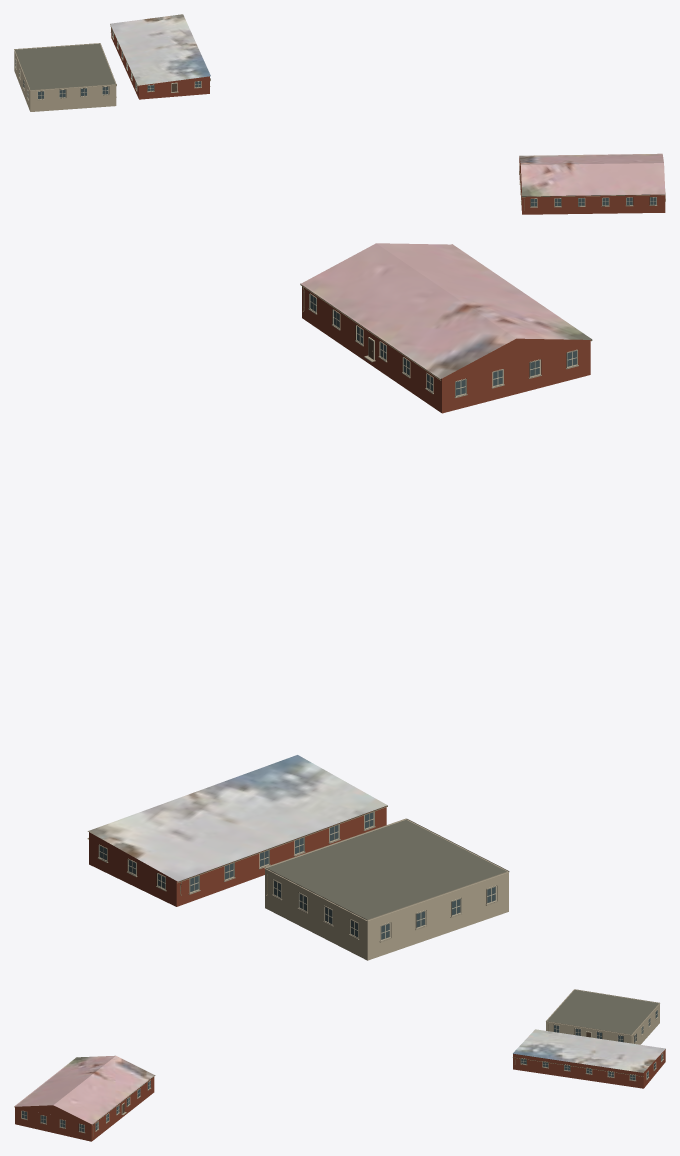
3 views of the same model, one above another, from view 1: azimuth 30°, elevation 25°; view 2: azimuth 150°, elevation 25°; view 3: azimuth 270°, elevation 25° (orthographic). The views are drawn at different scales.
Visible parts, largest first — view 1: -3_-6_609781267_0, -3_-6_609781273_2; view 2: -3_-6_609781267_0, -3_-6_609781273_2; view 3: -3_-6_609781267_0, -3_-6_609781273_2.
Part boxes in pixels (x1,y1,x2,y2): -3_-6_609781267_0: (14, 14, 665, 214); -3_-6_609781273_2: (14, 43, 116, 111); -3_-6_609781267_0: (87, 243, 592, 942); -3_-6_609781273_2: (265, 819, 508, 960); -3_-6_609781267_0: (14, 989, 665, 1141); -3_-6_609781273_2: (546, 990, 659, 1044).
Bounding box in the file's own units: 86.04 × 15.18 × 141.
Materials: 12 (1 with a texture image).
